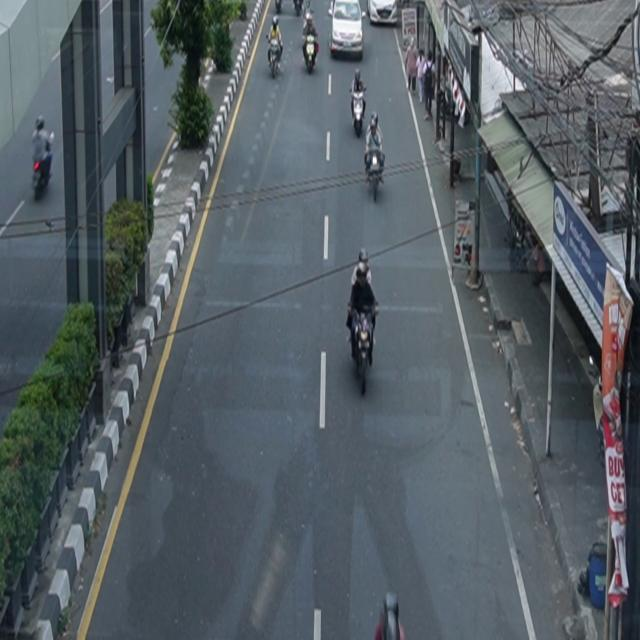car: (328, 1, 365, 60)
